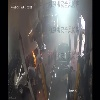fire: (31, 48, 41, 72)
